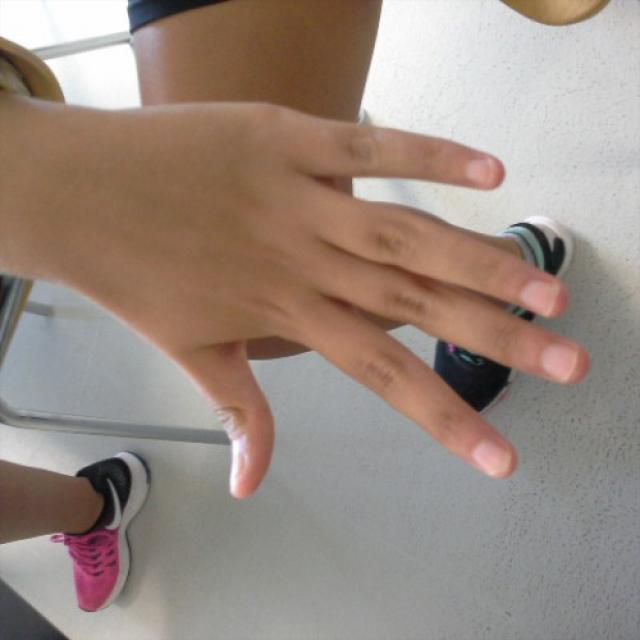paper: (168, 99, 592, 502)
